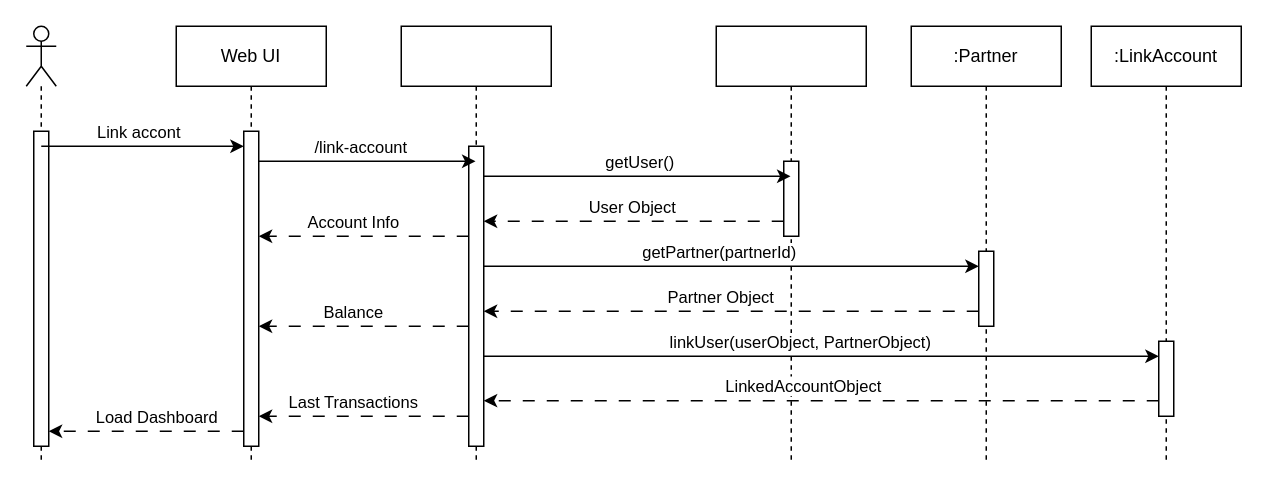
This 1268x488 diagram has some shape labels left out. Each missing label, with the box of its shape:
:User: (715, 25, 866, 461)
Backend API: (400, 25, 551, 461)
